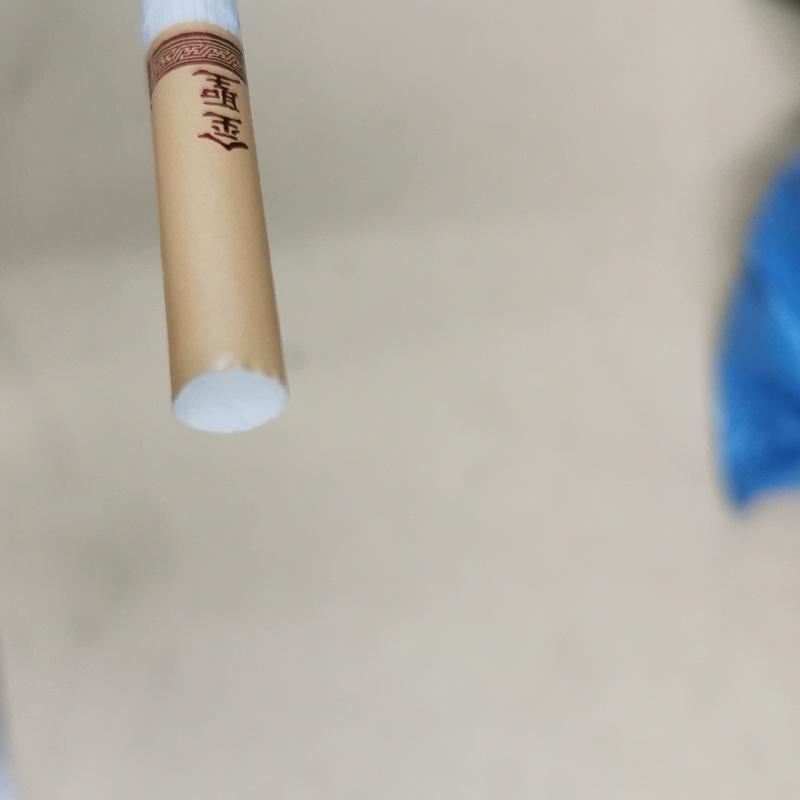cigarette: (129, 1, 303, 441)
